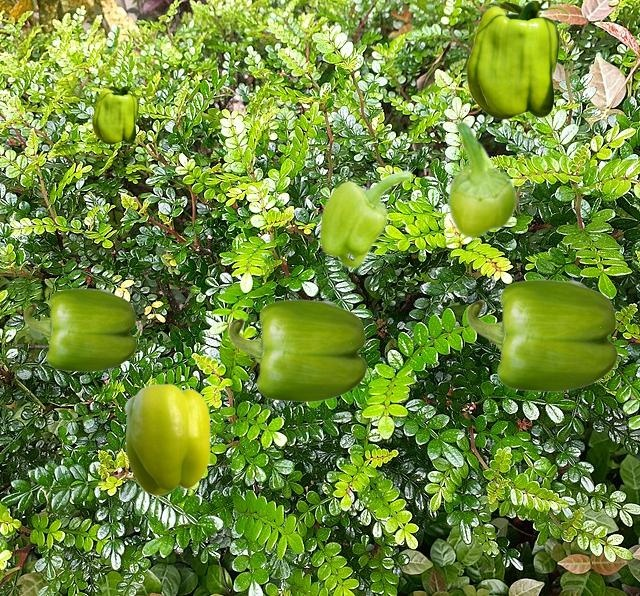bell_pepper: (466, 279, 617, 391), (228, 299, 366, 401), (466, 1, 568, 118), (124, 383, 209, 494), (23, 288, 136, 371), (318, 169, 412, 268), (447, 121, 517, 238), (92, 86, 142, 143)
